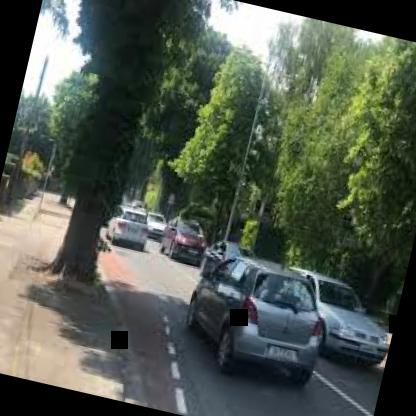car: (158, 234, 346, 406), (267, 236, 409, 385), (153, 209, 221, 268), (101, 190, 156, 260), (138, 203, 178, 245)
